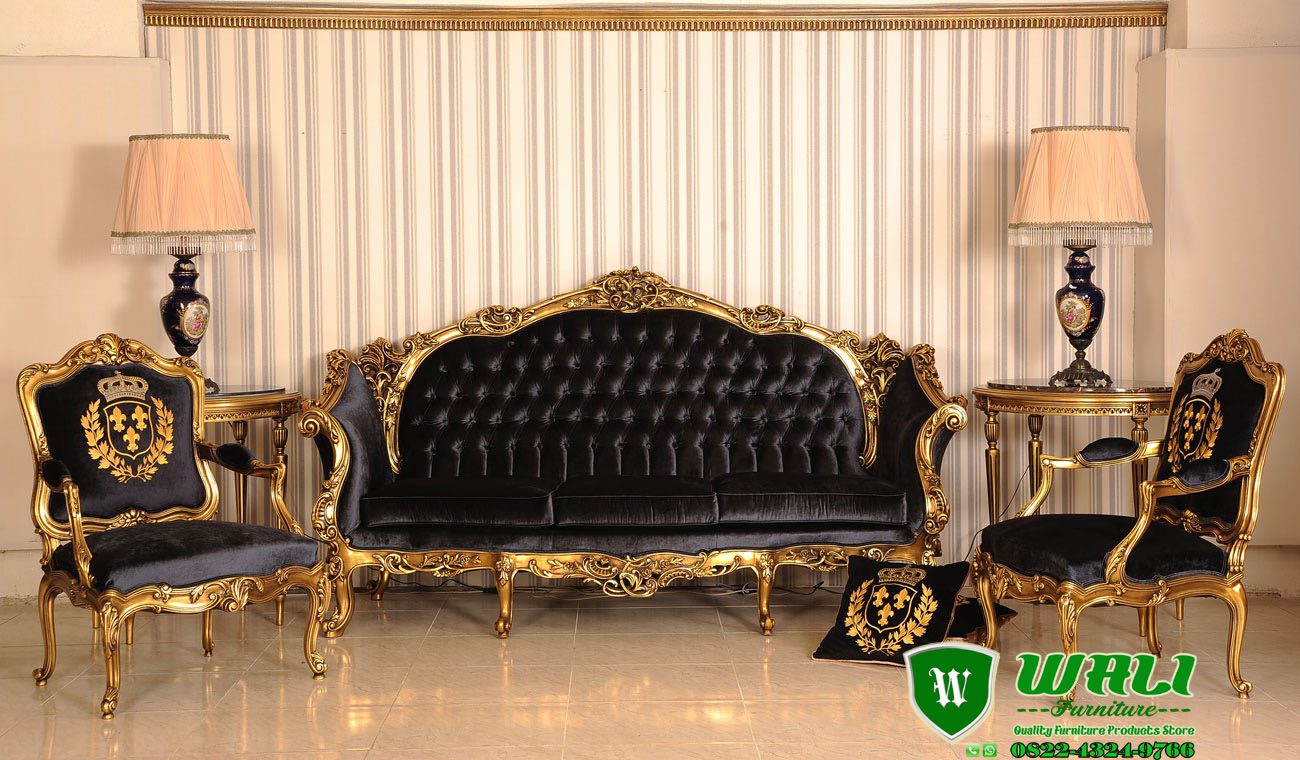Carving Chair: (312, 310, 942, 623), (23, 339, 318, 682), (993, 353, 1289, 667)
